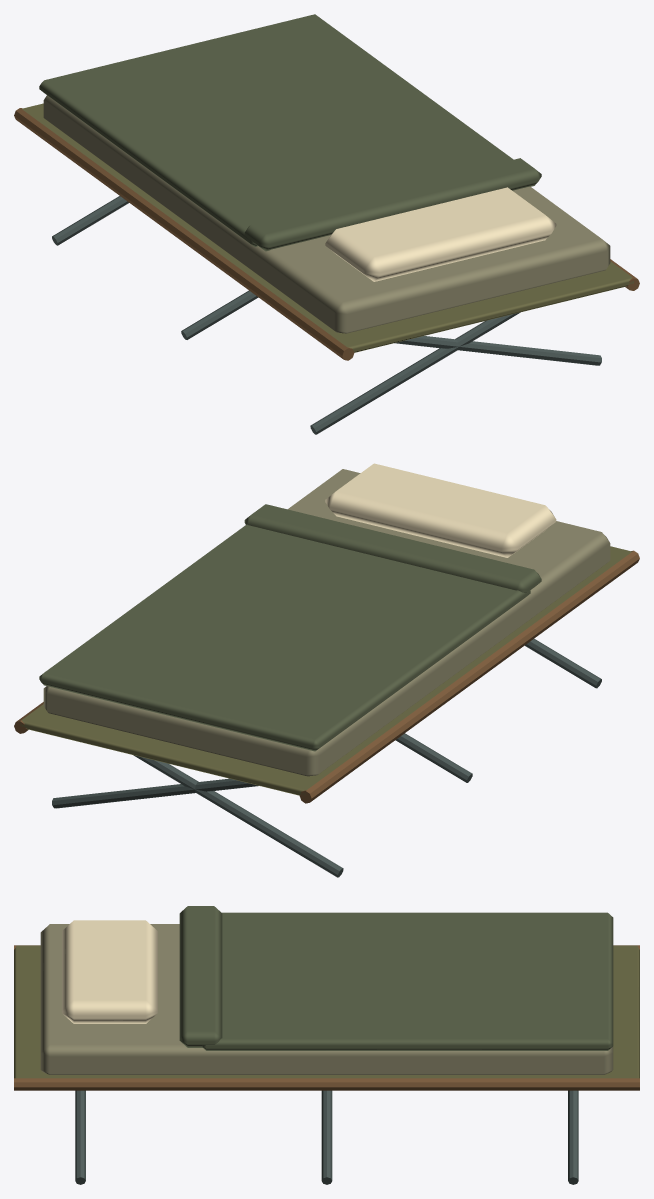
The model's file is Cot.glb.
3 renders of one model, top to bottom at view 1: azimuth 30°, elevation 25°; view 2: azimuth 150°, elevation 25°; view 3: azimuth 270°, elevation 25°, orthographic. The views are drawn at different scales.
Parts seen in each view (by area): view 1: Cot.001; view 2: Cot.001; view 3: Cot.001.
Part boxes in pixels (x1=…): Cot.001: x1=14, y1=14, x2=639, y2=434; Cot.001: x1=14, y1=463, x2=639, y2=877; Cot.001: x1=14, y1=906, x2=639, y2=1184.
Size of the model in its own units: 1.23 by 0.6589 by 2.35.
